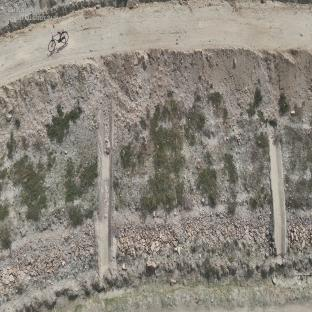rock_toe: (114, 212, 273, 268), (0, 228, 95, 306), (287, 215, 312, 252)
slope_drain: (97, 98, 116, 275), (270, 138, 286, 256)
